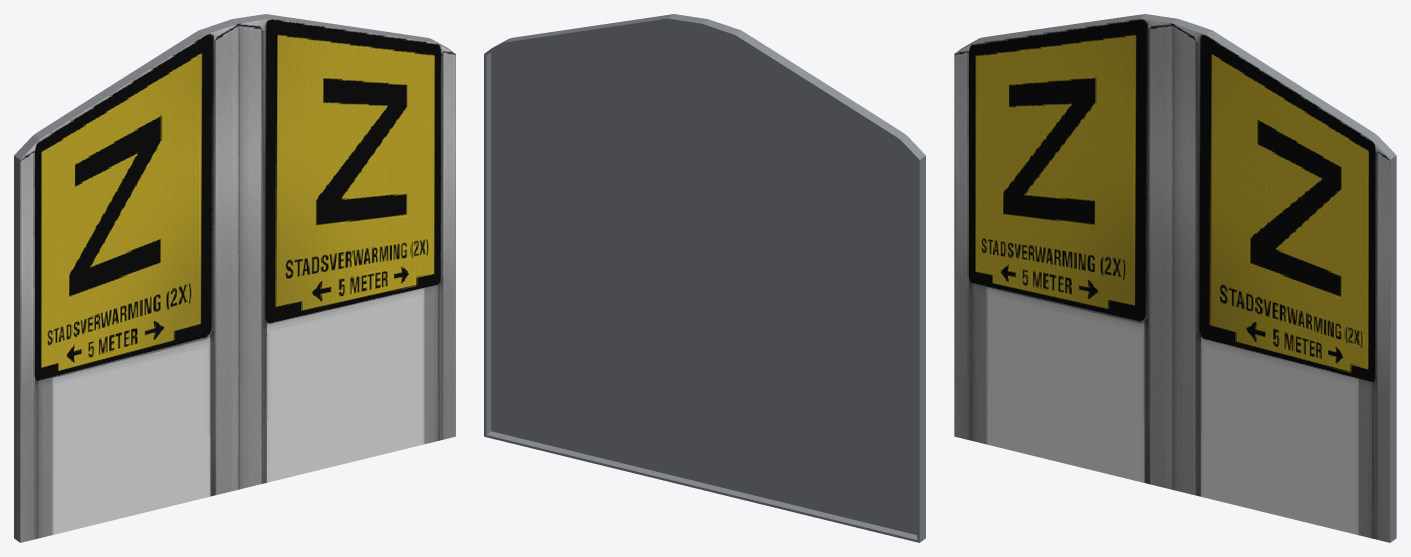
The picture shows the model from 3 angles, left to right: view 1: azimuth 30°, elevation 25°; view 2: azimuth 150°, elevation 25°; view 3: azimuth 330°, elevation 25°; orthographic projection.
Visible parts, largest first — view 1: cat_ad844b25a0bfdc38; view 2: cat_ad844b25a0bfdc38; view 3: cat_ad844b25a0bfdc38.
Part boxes in pixels (box(x1,y1,x2,y2)): cat_ad844b25a0bfdc38: box(14, 14, 455, 542); cat_ad844b25a0bfdc38: box(484, 14, 925, 542); cat_ad844b25a0bfdc38: box(954, 14, 1396, 542).
Bounding box in the file's own units: 0.6 × 0.015 × 0.6135.
2 materials, 1 textured.
